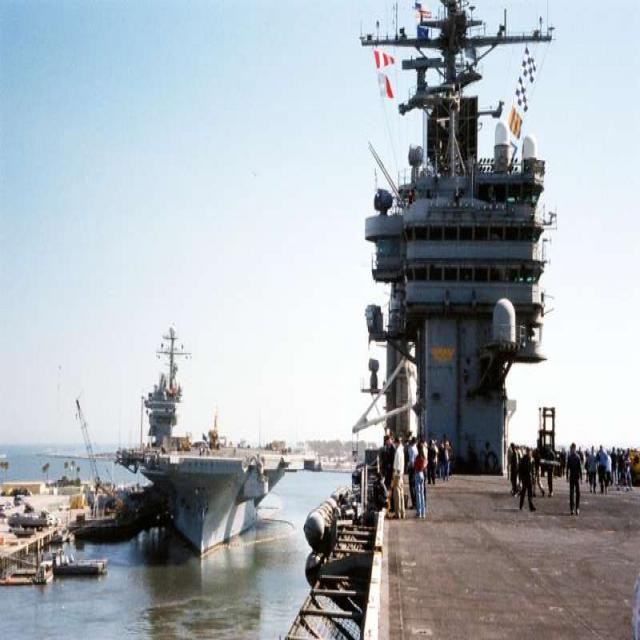Portanaves: (106, 316, 324, 587)
